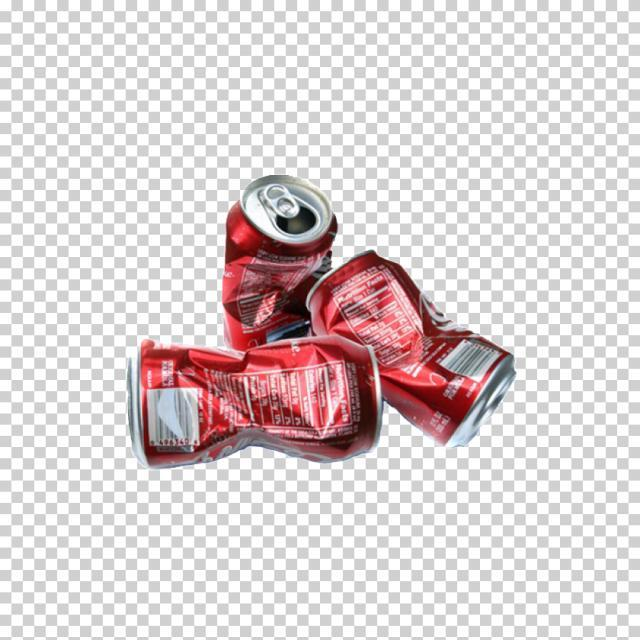can: (303, 245, 542, 445), (120, 319, 382, 479), (205, 142, 346, 360)
